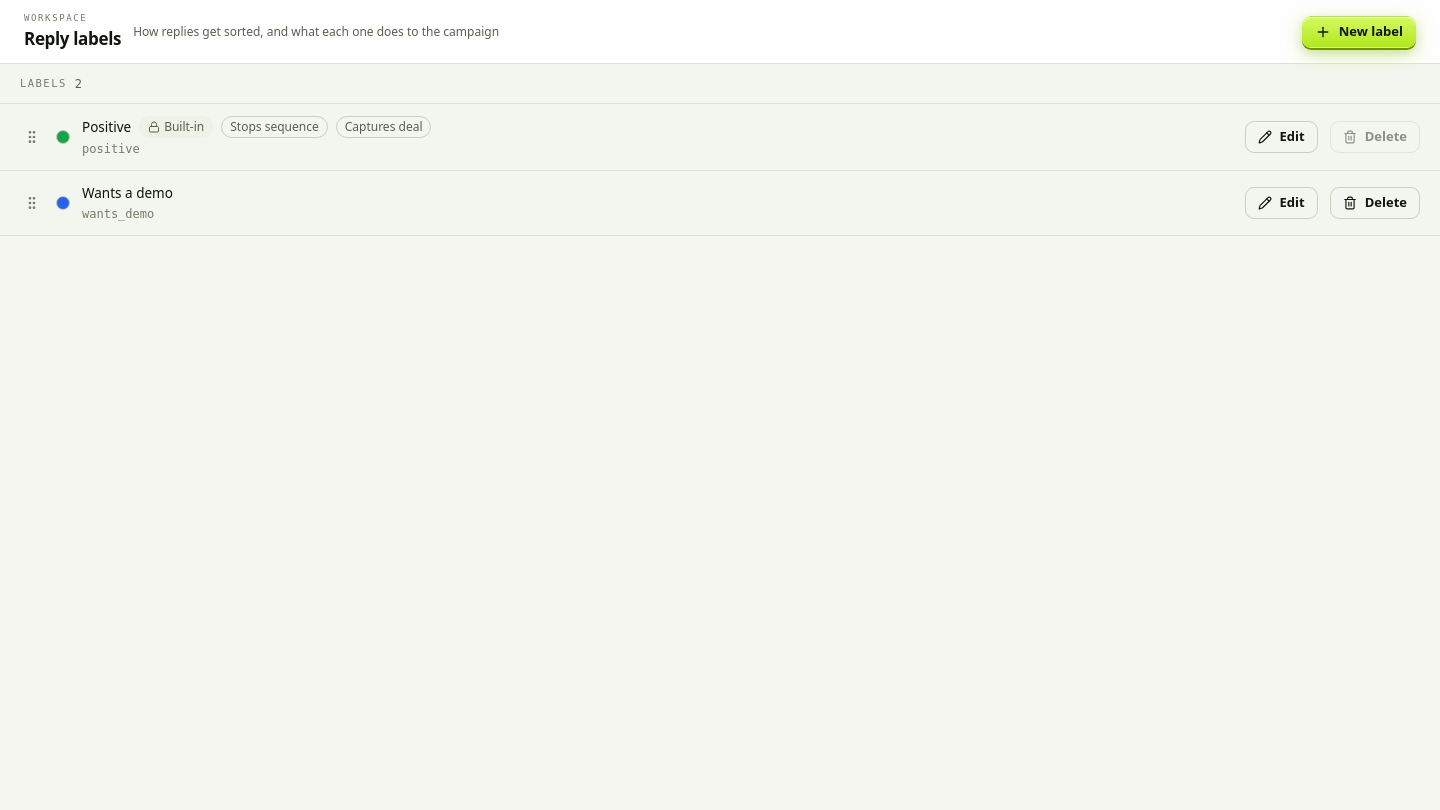
it: the create form blocks the automated+stops combination client-side
Expected: the text "Positive" is shown, x1=82 y1=117 x2=131 y2=137
Click the button "New label": (1359, 32) x1=1302 y1=16 x2=1416 y2=48
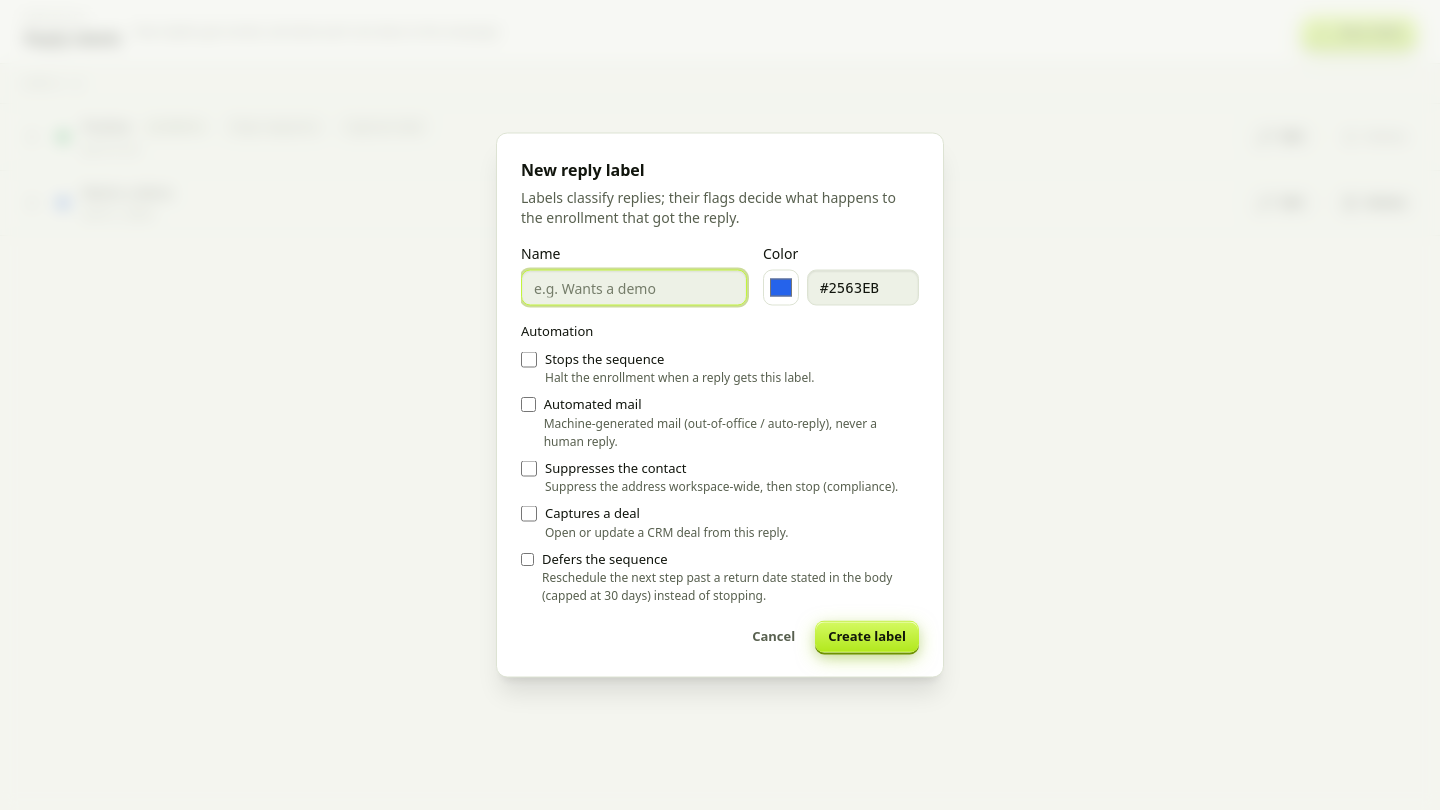
In the field labelled "Name": (634, 288) x1=521 y1=270 x2=747 y2=306, type "OOO"
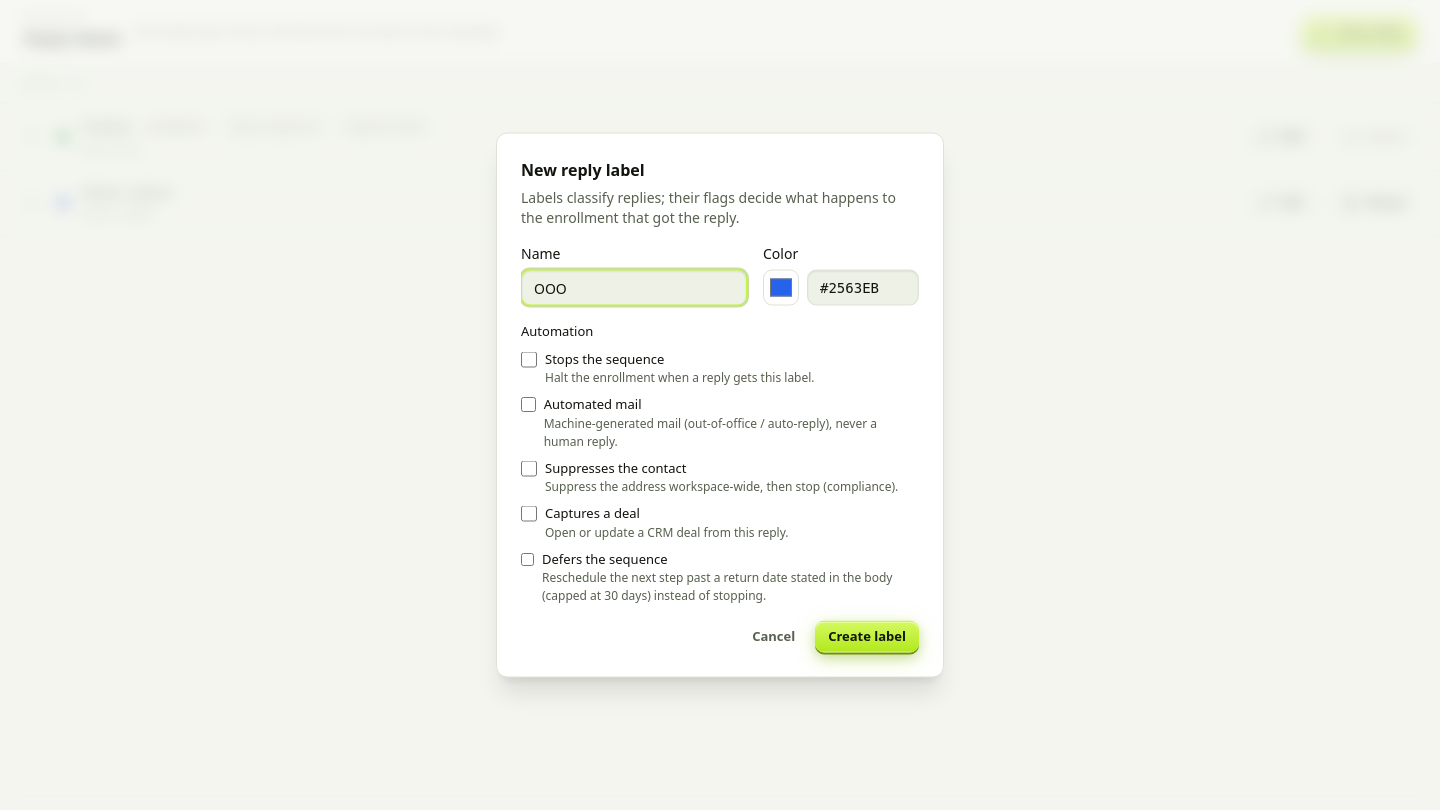
Click the checkbox labelled "Automated mail": (528, 404) x1=521 y1=396 x2=536 y2=412
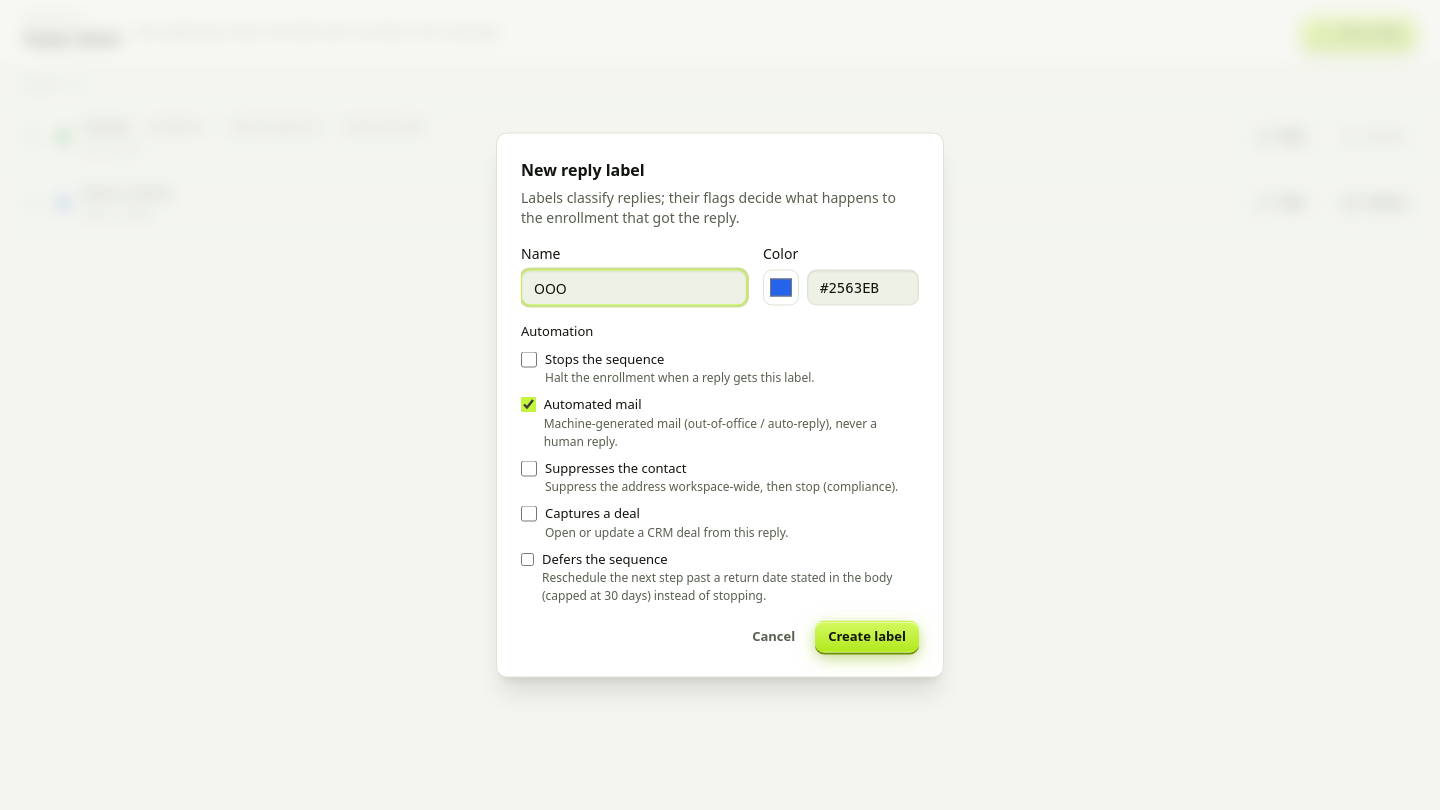
Click the checkbox labelled "Stops the sequence": (529, 359) x1=521 y1=351 x2=537 y2=367
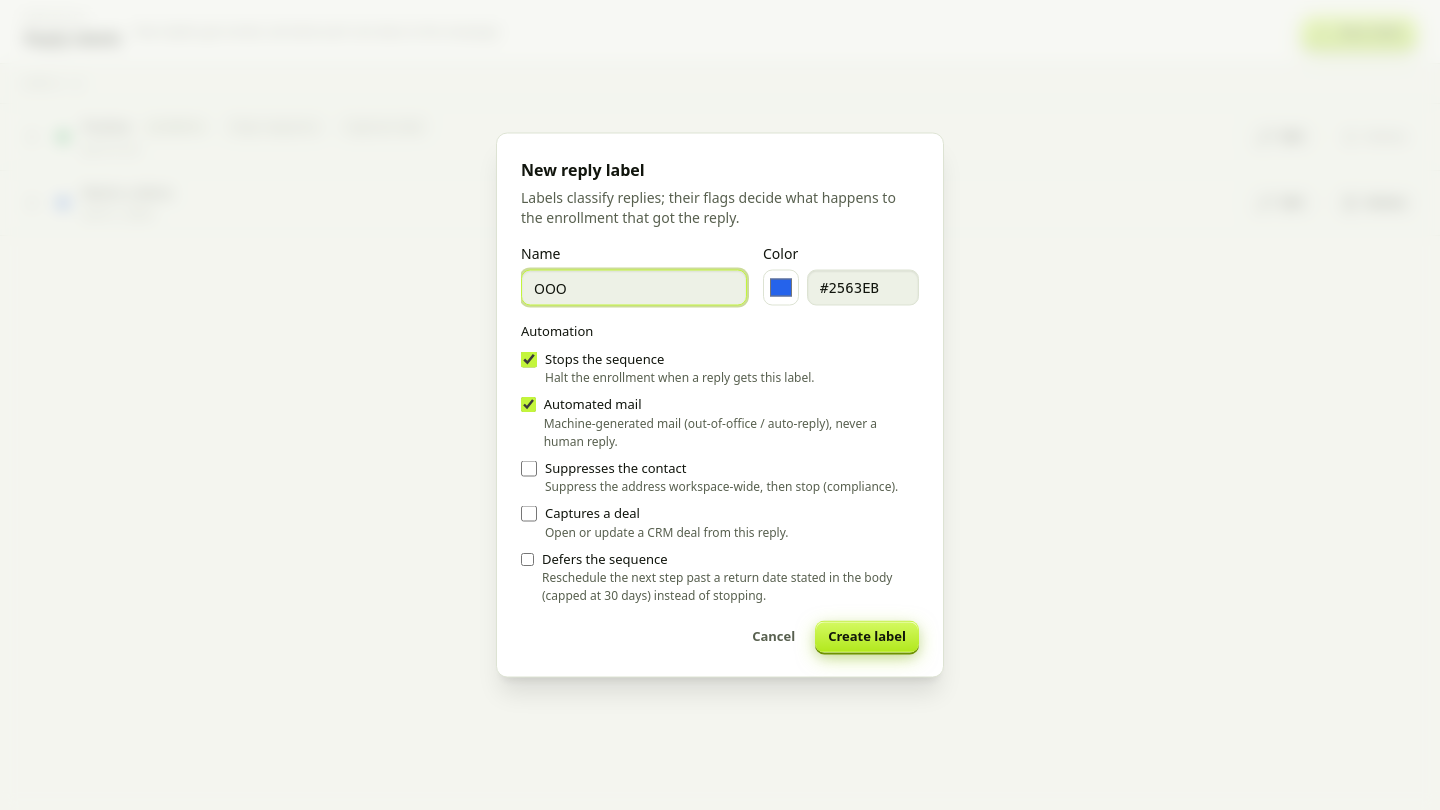
Click the button "Create label": (867, 636) x1=815 y1=620 x2=919 y2=652
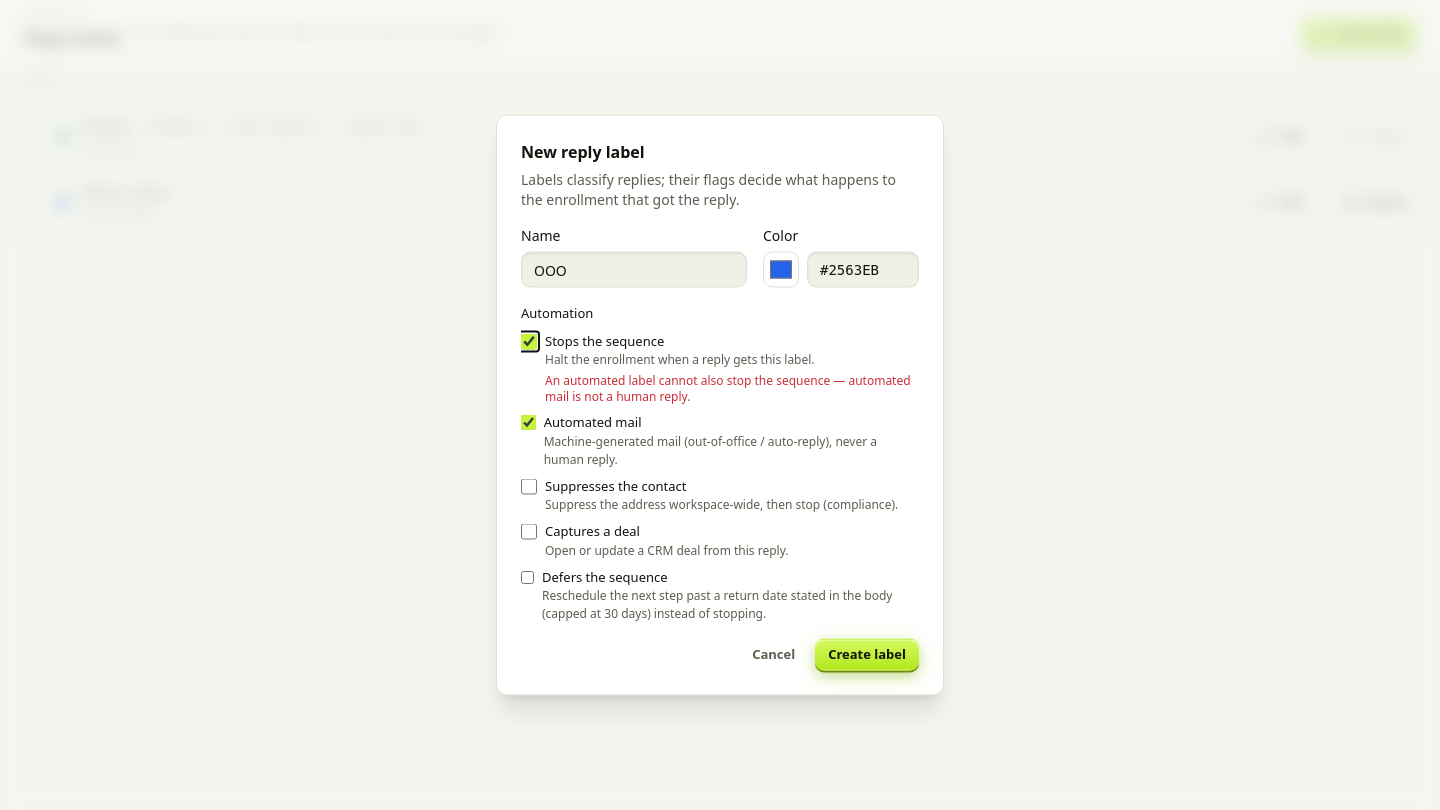
Now the message shows "automated label cannot also stop the sequence", box x1=545 y1=372 x2=911 y2=404
